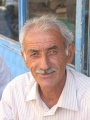male: (16, 18, 74, 86)
